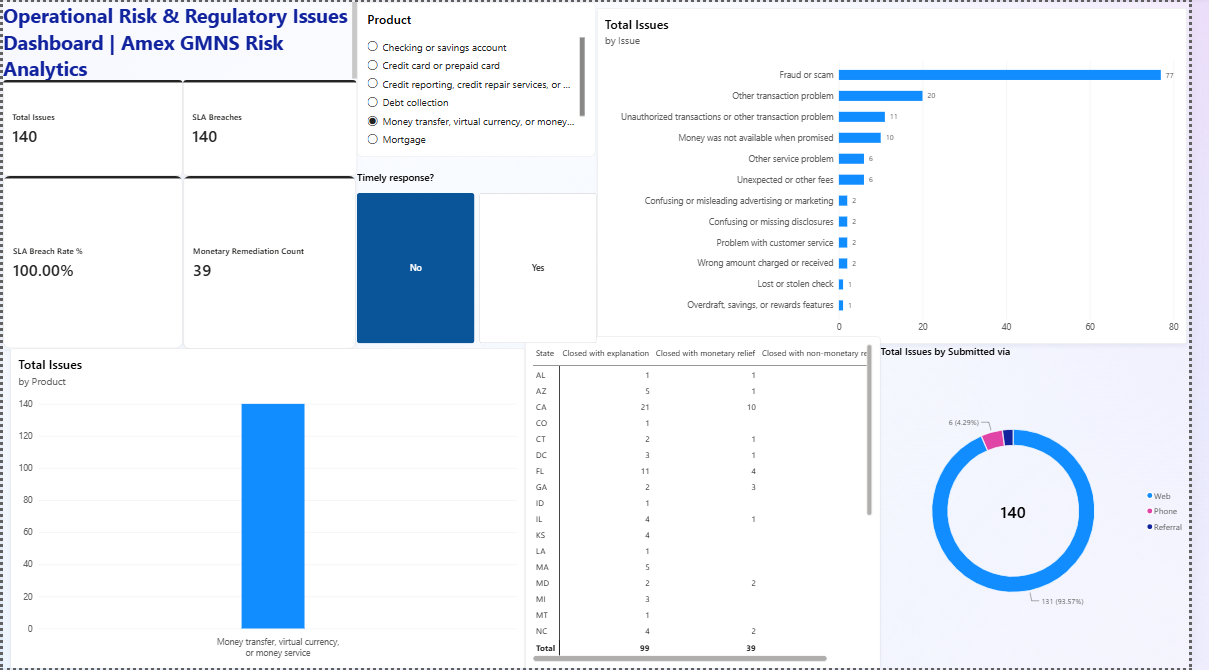

The page's visual inventory and layout, read from the dashboard file:
{"tool":"powerbi","page":{"name":"Executive Risk Overview","canvas":[1920,1080],"ordinal":0},"visuals":[{"type":"cardVisual","fields":{"Data":["_Measures.Total_Issues"]},"box":[0,126.3,291.5,155.4],"z":0},{"type":"cardVisual","fields":{"Data":["_Measures.SLA_Breaches"]},"box":[291.5,126.3,281.7,155.4],"z":1000},{"type":"cardVisual","fields":{"Data":["_Measures.Monetary Remediation_Count"]},"box":[292,280.6,280.6,280.6],"z":2000},{"type":"cardVisual","fields":{"Data":["_Measures.SLA Breach_Rate %"]},"box":[0,281.7,291.5,279.3],"z":3000},{"type":"clusteredBarChart","fields":{"Category":["Real_CFPB_Consumer_Complaints.Issue"],"Y":["Real_CFPB_Consumer_Complaints.Total Issues"]},"box":[961,8.5,955.3,544.3],"z":4000},{"type":"donutChart","fields":{"Category":["Real_CFPB_Consumer_Complaints.Submitted via"],"Y":["Real_CFPB_Consumer_Complaints.Total Issues"]},"box":[1420.9,553.8,497.9,502.8],"z":5000},{"type":"clusteredColumnChart","fields":{"Category":["Real_CFPB_Consumer_Complaints.Product"],"Y":["Real_CFPB_Consumer_Complaints.Total Issues"]},"box":[11.3,561.3,833.4,518.7],"z":6000},{"type":"pivotTable","fields":{"Columns":["Real_CFPB_Consumer_Complaints.Company response to consumer"],"Rows":["Real_CFPB_Consumer_Complaints.State"],"Values":["Real_CFPB_Consumer_Complaints.Total Issues"]},"box":[844.6,582.2,577.4,498.7],"z":7000},{"type":"listSlicer","fields":{"Values":["Real_CFPB_Consumer_Complaints.Product"]},"box":[573.2,0,386.2,250.2],"z":8000},{"type":"advancedSlicerVisual","fields":{"Values":["Dim_Geography.Region"]},"box":[572.6,250.5,388.9,303],"z":9000},{"type":"textbox","box":[0,0,573.2,126.3],"z":10000}]}

Visuals, with their boxes in screenshot pixels (x1, y1, x2, y2), scaled from the page's 1920x1080 canvas onto the 1209x670 screenshot:
cardVisual - _Measures.Total_Issues: locate(0, 78, 184, 175)
cardVisual - _Measures.SLA_Breaches: locate(184, 78, 361, 175)
cardVisual - _Measures.Monetary Remediation_Count: locate(184, 174, 361, 348)
cardVisual - _Measures.SLA Breach_Rate %: locate(0, 175, 184, 348)
clusteredBarChart - Real_CFPB_Consumer_Complaints.Issue x Real_CFPB_Consumer_Complaints.Total Issues: locate(605, 5, 1207, 343)
donutChart - Real_CFPB_Consumer_Complaints.Submitted via x Real_CFPB_Consumer_Complaints.Total Issues: locate(895, 344, 1208, 655)
clusteredColumnChart - Real_CFPB_Consumer_Complaints.Product x Real_CFPB_Consumer_Complaints.Total Issues: locate(7, 348, 532, 669)
pivotTable - Real_CFPB_Consumer_Complaints.Company response to consumer x Real_CFPB_Consumer_Complaints.State: locate(532, 361, 895, 669)
listSlicer - Real_CFPB_Consumer_Complaints.Product: locate(361, 0, 604, 155)
advancedSlicerVisual - Dim_Geography.Region: locate(361, 155, 605, 343)
textbox: locate(0, 0, 361, 78)
